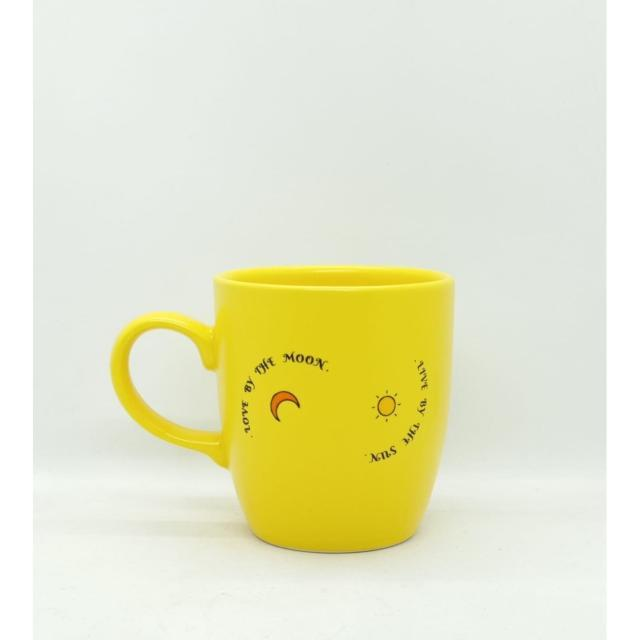Coffee Mug: (110, 263, 456, 556)
